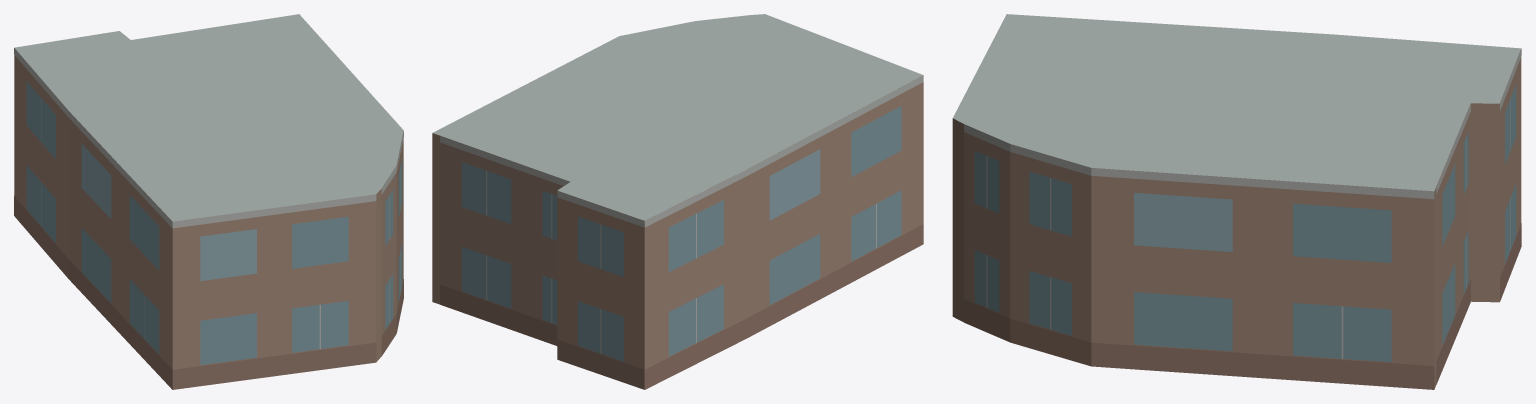
The model's file is survey-upis-32775764.glb.
The picture shows the model from 3 angles, left to right: view 1: azimuth 30°, elevation 25°; view 2: azimuth 150°, elevation 25°; view 3: azimuth 270°, elevation 25°; orthographic projection. The views are drawn at different scales.
Parts seen in each view (by area): view 1: survey-upis-32775764.tmp; view 2: survey-upis-32775764.tmp; view 3: survey-upis-32775764.tmp.
Part boxes in pixels (x1=…): survey-upis-32775764.tmp: x1=14, y1=14, x2=403, y2=389; survey-upis-32775764.tmp: x1=432, y1=14, x2=923, y2=389; survey-upis-32775764.tmp: x1=952, y1=14, x2=1521, y2=389.
Bounding box in the file's own units: 11.69 × 6.1 × 15.85.
